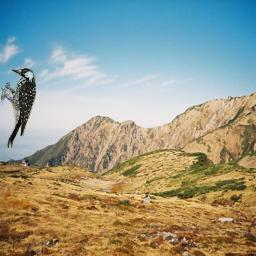Woodpecker: (1, 68, 36, 148)
